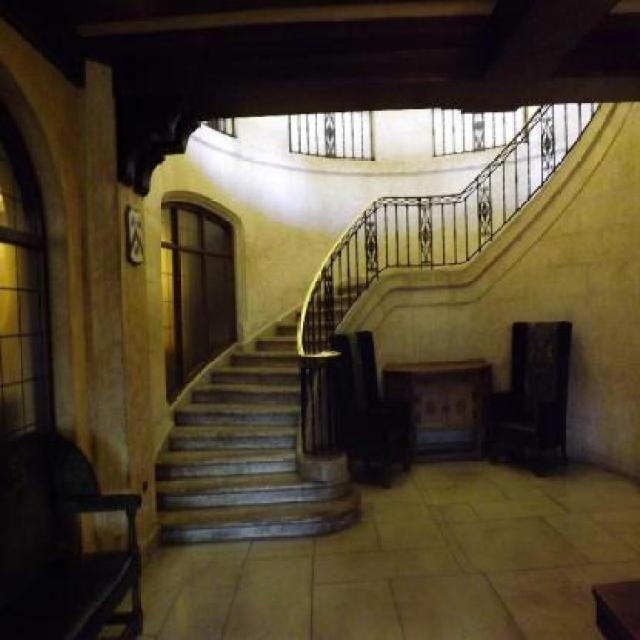stair: (155, 280, 371, 545)
